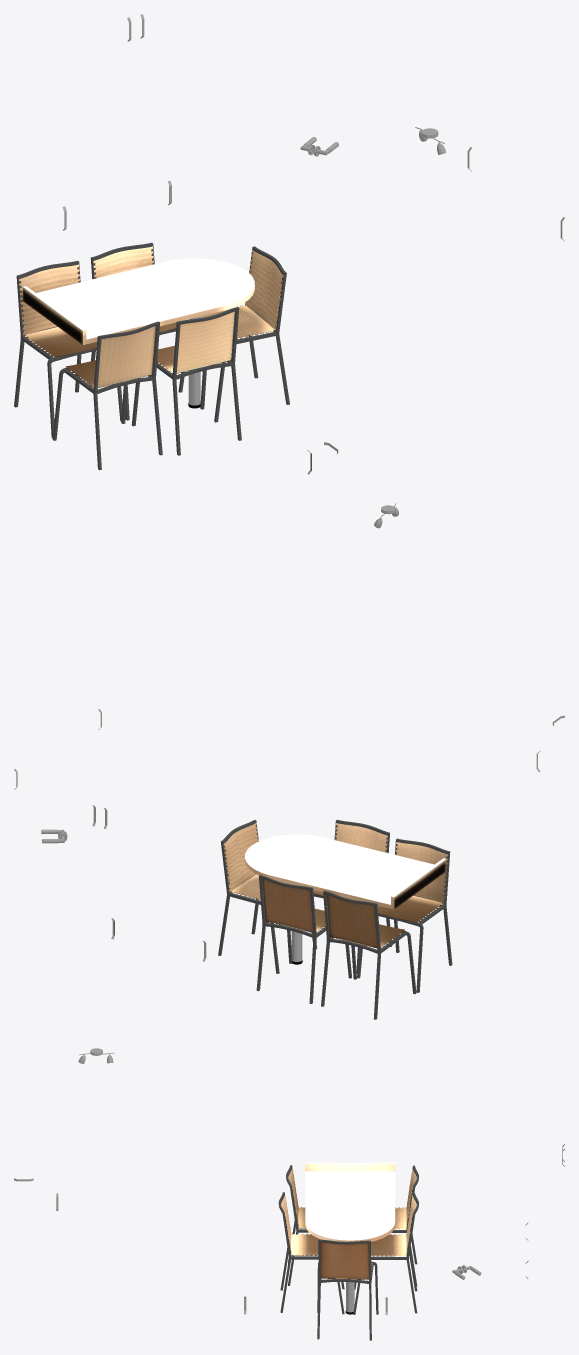
File: SM_LivR_F0.glb
3 renders of one model, top to bottom at view 1: azimuth 30°, elevation 25°; view 2: azimuth 150°, elevation 25°; view 3: azimuth 270°, elevation 25°, orthographic. The views are drawn at different scales.
Visible parts, largest first — view 1: SM_LivR_F0; view 2: SM_LivR_F0; view 3: SM_LivR_F0.
Boxes of the visible parts, x1,y1,x2,y2 form: SM_LivR_F0: [14, 14, 564, 474]; SM_LivR_F0: [14, 503, 564, 1019]; SM_LivR_F0: [14, 1048, 564, 1340].
Bounding box in the file's own units: 3 × 2.47 × 4.33.
Materials: 1 (1 with a texture image).
